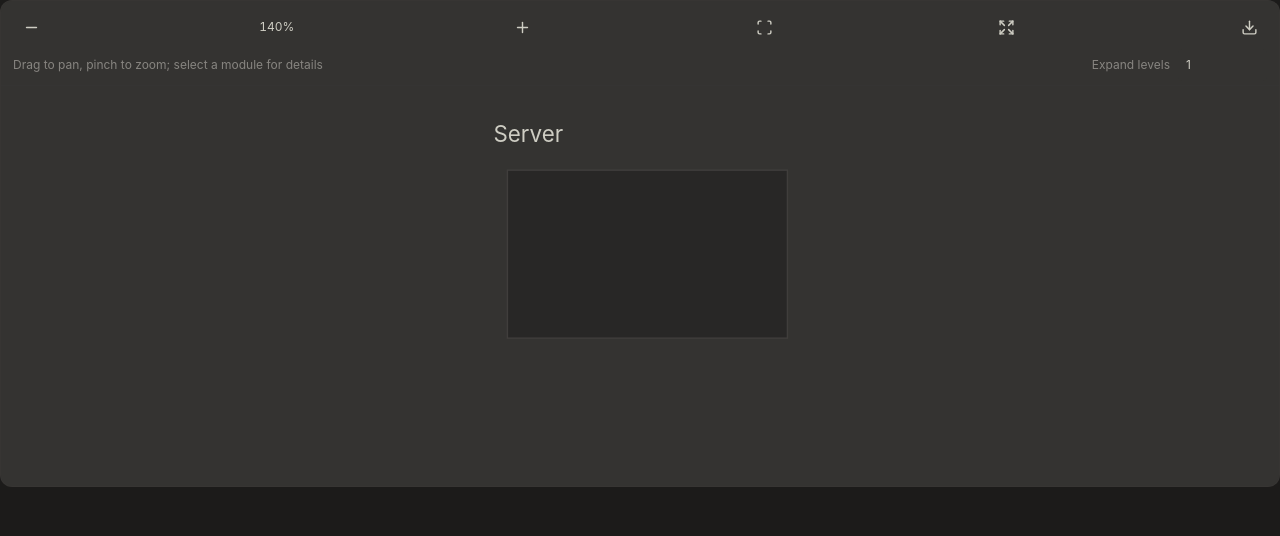
Scenario: interactive architecture SVG › exports the fitted SVG and reports failed downloads
The image size is (1280, 536).
Expected: the button "Server" is shown, [493,120,563,147]
Click the button named "Download architecture SVG".
click(1249, 27)  # box [1227,5,1271,49]
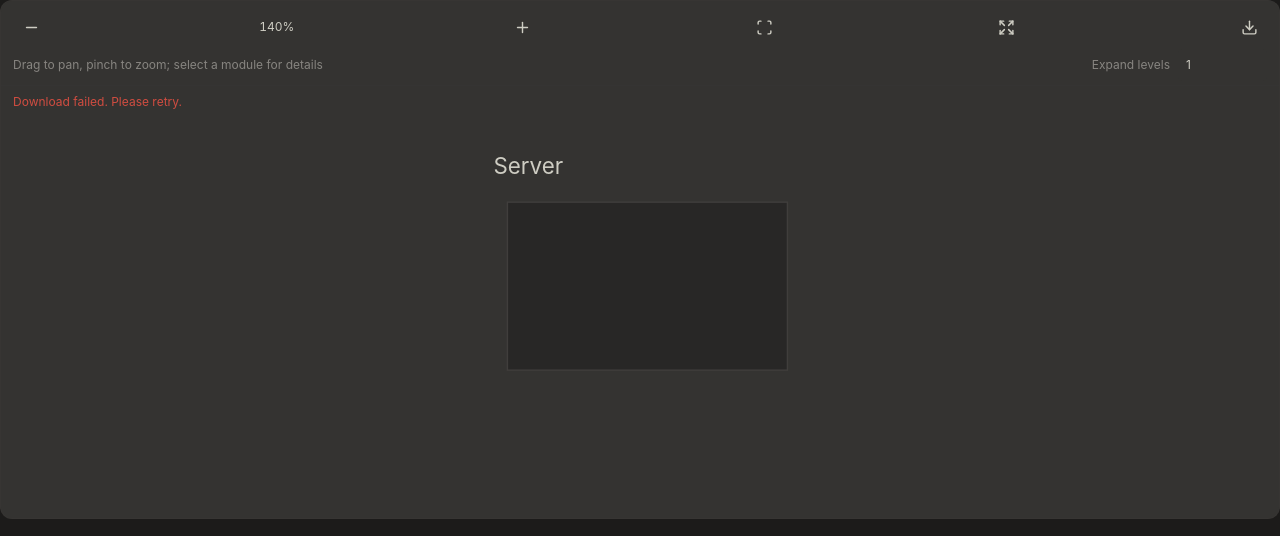
Now the message "Download failed. Please retry." is shown, box [13,94,182,109]
